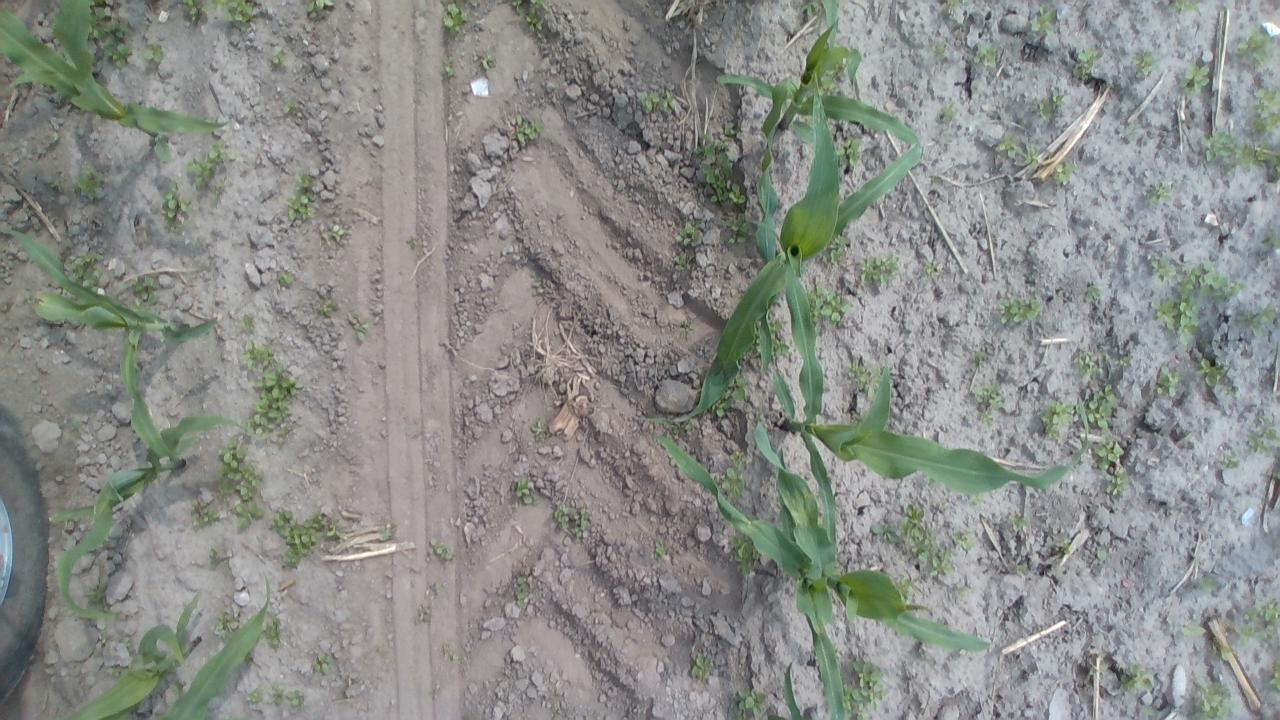Maize: (654, 415, 992, 720), (658, 74, 929, 431), (768, 258, 1086, 550), (0, 221, 220, 466), (48, 408, 242, 626), (0, 3, 228, 166), (710, 0, 924, 163), (64, 575, 204, 720), (153, 575, 272, 720), (770, 659, 820, 720), (818, 0, 841, 50)
Weeds: (246, 354, 304, 444), (895, 503, 956, 578), (270, 509, 326, 568), (216, 438, 261, 505), (842, 657, 889, 720), (698, 146, 746, 207), (89, 8, 135, 68), (1178, 260, 1242, 301), (1150, 294, 1202, 344), (696, 136, 740, 194), (188, 142, 230, 198), (1094, 434, 1130, 493), (1232, 602, 1280, 646), (1075, 381, 1118, 429), (809, 284, 852, 326), (673, 220, 706, 274), (1238, 140, 1280, 182), (994, 133, 1040, 171), (996, 292, 1044, 325), (858, 252, 902, 286), (1192, 686, 1234, 720), (1251, 87, 1280, 136), (1238, 29, 1274, 68), (552, 502, 590, 538), (721, 447, 747, 499), (160, 185, 192, 227), (1039, 400, 1074, 438), (286, 178, 316, 222), (1200, 126, 1236, 162), (71, 252, 103, 292), (212, 0, 256, 28), (1240, 307, 1280, 337), (1196, 357, 1232, 389), (731, 534, 757, 576), (734, 686, 768, 718), (767, 315, 791, 360), (636, 86, 674, 114), (241, 339, 274, 371), (976, 384, 1001, 426), (1071, 46, 1100, 82), (1120, 662, 1152, 694), (1247, 424, 1280, 455), (1180, 64, 1210, 98), (517, 1, 550, 31), (442, 1, 470, 35), (74, 168, 104, 199), (512, 114, 543, 144), (235, 500, 265, 530), (726, 215, 754, 246), (214, 609, 242, 640), (838, 134, 863, 168), (131, 277, 161, 305), (1029, 6, 1056, 36), (271, 682, 302, 708), (1154, 365, 1180, 396), (1039, 90, 1064, 122), (1072, 348, 1100, 376), (84, 587, 112, 615), (1191, 572, 1221, 598), (851, 362, 877, 392), (189, 500, 216, 528), (1148, 254, 1174, 283), (304, 0, 336, 23), (238, 310, 264, 338), (825, 234, 849, 264), (242, 690, 268, 716), (896, 576, 920, 604), (181, 0, 209, 24), (676, 315, 700, 342), (728, 372, 748, 404), (318, 222, 347, 244), (1134, 52, 1158, 78), (532, 278, 558, 302), (513, 478, 536, 505), (207, 546, 229, 574), (872, 522, 901, 543), (1006, 512, 1032, 534), (350, 317, 372, 343), (691, 654, 712, 681), (712, 390, 732, 418), (974, 43, 998, 66), (1052, 161, 1076, 184), (432, 540, 456, 562), (953, 528, 975, 552), (266, 618, 282, 650), (311, 650, 333, 673), (1150, 182, 1173, 204), (144, 41, 166, 64), (1168, 0, 1202, 14), (274, 269, 298, 288), (668, 417, 694, 434), (268, 48, 288, 70), (106, 664, 128, 684), (1180, 622, 1207, 638), (720, 121, 740, 142), (1267, 662, 1280, 694), (1211, 642, 1234, 660), (948, 584, 972, 601), (316, 300, 338, 318), (440, 56, 458, 78), (278, 101, 302, 117), (970, 348, 989, 368), (476, 50, 496, 68), (1084, 283, 1102, 303), (938, 102, 956, 122), (1264, 230, 1280, 252), (923, 259, 941, 278), (1052, 539, 1072, 556), (1220, 452, 1240, 468), (514, 584, 530, 604), (934, 40, 949, 61), (428, 576, 442, 598), (50, 175, 68, 192), (532, 419, 548, 438), (122, 636, 142, 650), (1115, 356, 1133, 370), (381, 522, 394, 541), (325, 523, 340, 539), (804, 1, 819, 17), (1014, 562, 1030, 576), (944, 0, 964, 11), (95, 630, 108, 646), (404, 235, 421, 247), (1095, 549, 1110, 562), (653, 542, 666, 557), (970, 494, 988, 504), (1269, 470, 1280, 481), (586, 326, 596, 336)
